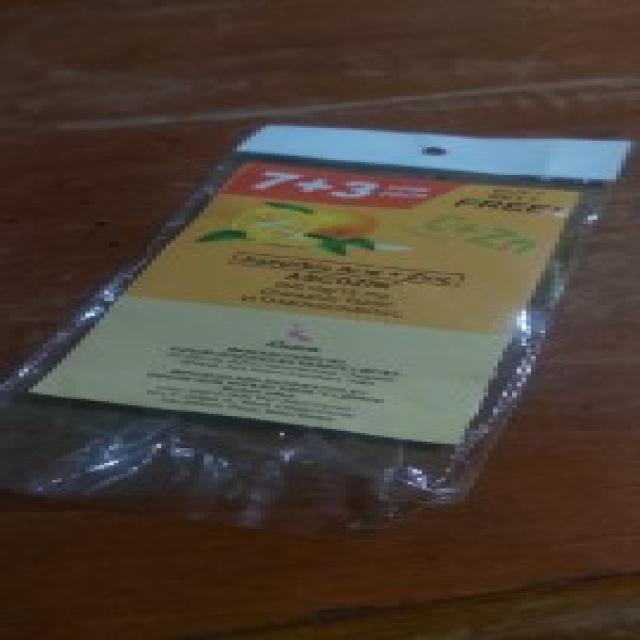Cacat: (9, 120, 628, 532)
